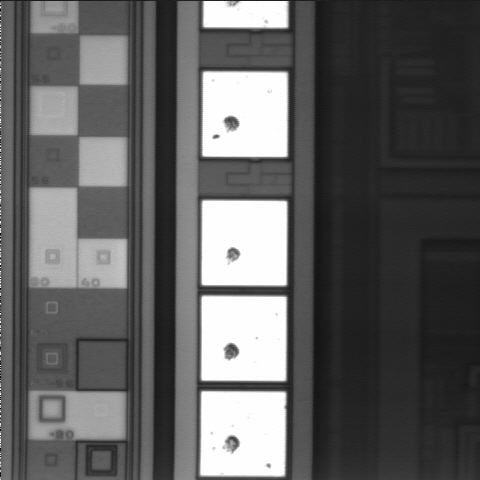pad: (200, 391, 286, 476), (202, 72, 287, 157), (202, 201, 287, 286), (201, 296, 286, 381)
